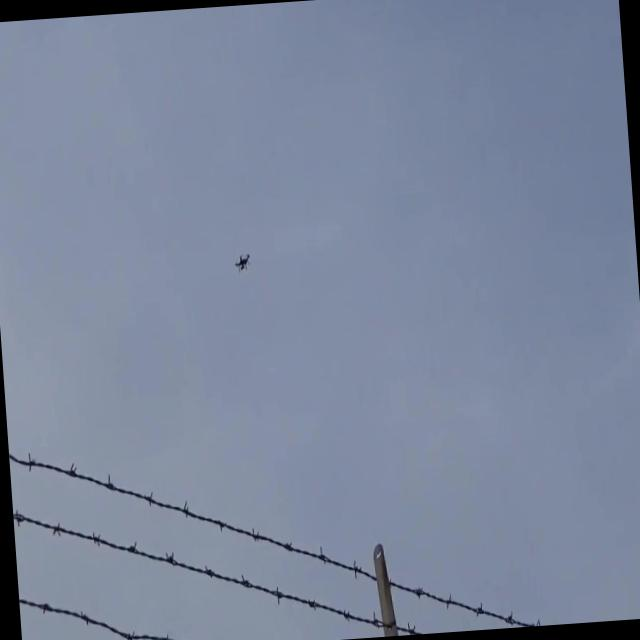drone: (234, 250, 252, 275)
